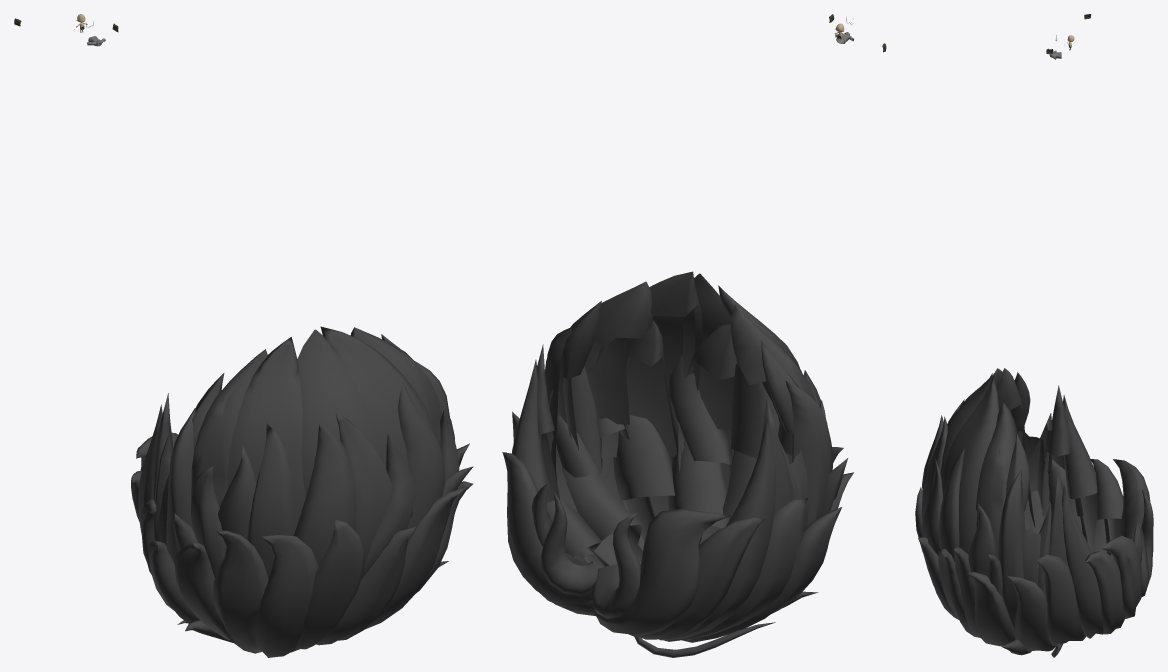
The model's file is davi_model.glb.
3 views of the same model, side by side, from view 1: azimuth 30°, elevation 25°; view 2: azimuth 150°, elevation 25°; view 3: azimuth 270°, elevation 25° (orthographic). The views are drawn at different scales.
Visible parts, largest first — view 1: Hair_Color; view 2: Hair_Color; view 3: Hair_Color.
Part boxes in pixels (box(x1,y1,x2,y2)): Hair_Color: box(131, 326, 473, 657); Hair_Color: box(502, 271, 853, 657); Hair_Color: box(915, 368, 1153, 657).
Size of the model in its own units: 1.4 by 2.2 by 0.8948.
29 materials, 9 textured.
